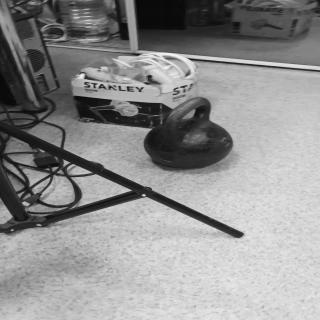kettlebell: (147, 98, 237, 172)
